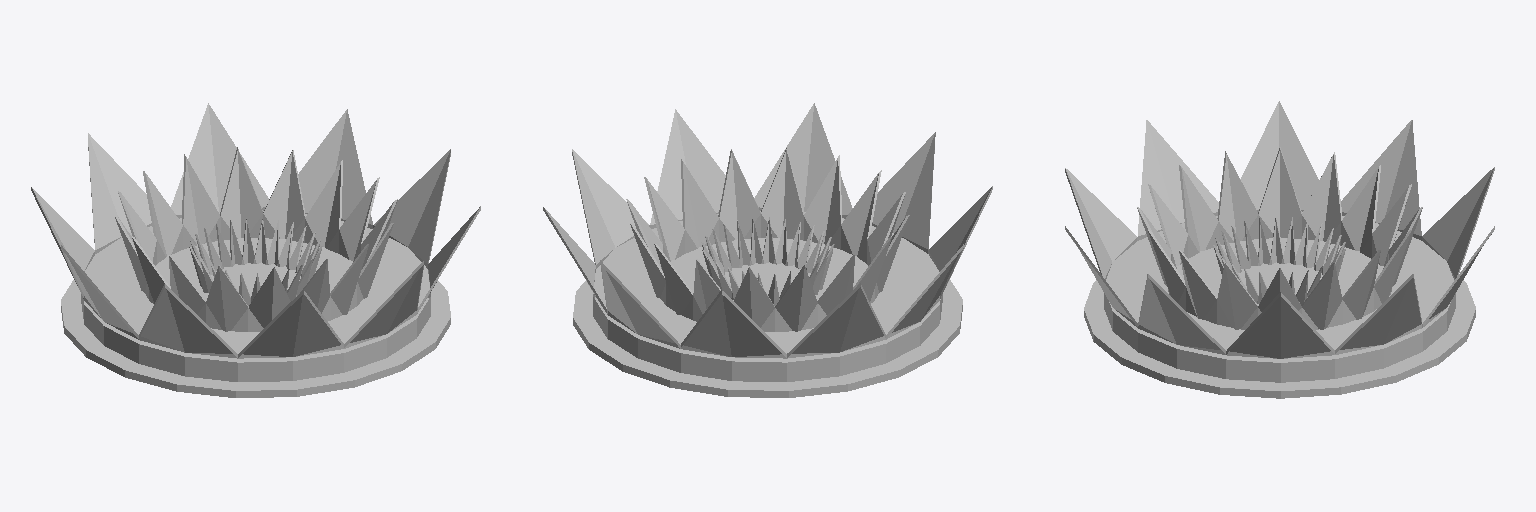
The model's file is portal_abrir_000002.obj.
The picture shows the model from 3 angles: view 1: azimuth 30°, elevation 25°; view 2: azimuth 150°, elevation 25°; view 3: azimuth 270°, elevation 25°; orthographic projection.
Parts seen in each view (by area): view 1: pCylinder1, Cylinder, Cylinder.001; view 2: pCylinder1, Cylinder, Cylinder.001; view 3: pCylinder1, Cylinder, Cylinder.001.
Part boxes in pixels (left/top/right/bottom): pCylinder1: left=31, top=103, right=480, bottom=397; Cylinder: left=114, top=147, right=397, bottom=331; Cylinder.001: left=189, top=218, right=322, bottom=305; pCylinder1: left=543, top=103, right=992, bottom=397; Cylinder: left=626, top=148, right=909, bottom=331; Cylinder.001: left=701, top=217, right=834, bottom=305; pCylinder1: left=1065, top=101, right=1494, bottom=398; Cylinder: left=1137, top=147, right=1422, bottom=329; Cylinder.001: left=1213, top=217, right=1345, bottom=305.
Bounding box in the file's own units: 1.98 × 0.5784 × 1.88.